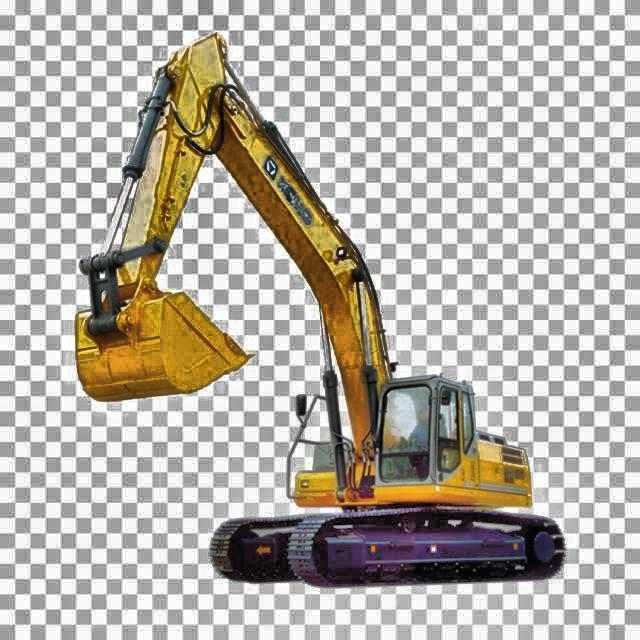excavator: (71, 31, 568, 589)
